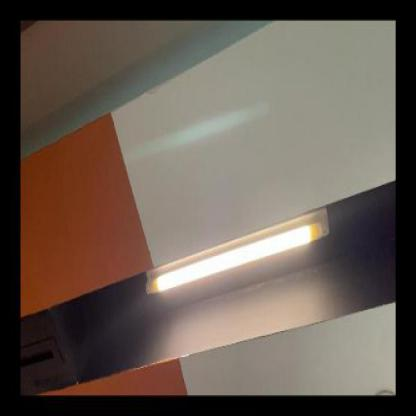light_on: (143, 198, 332, 306)
